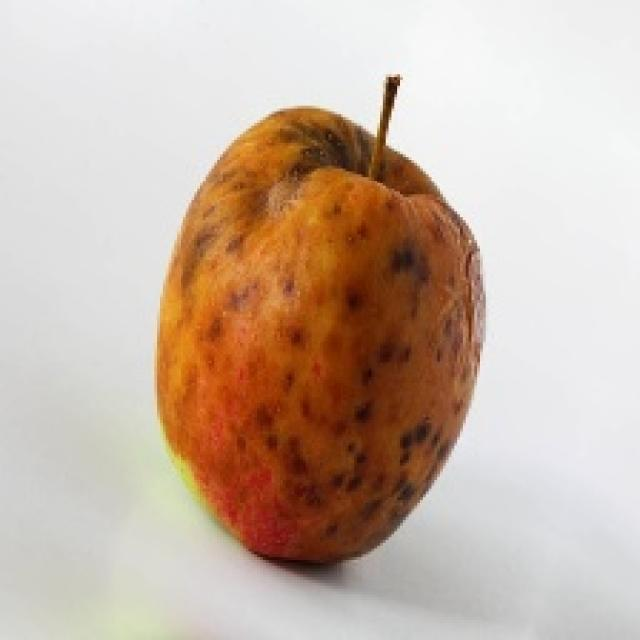rotten_apple: (158, 110, 484, 560)
